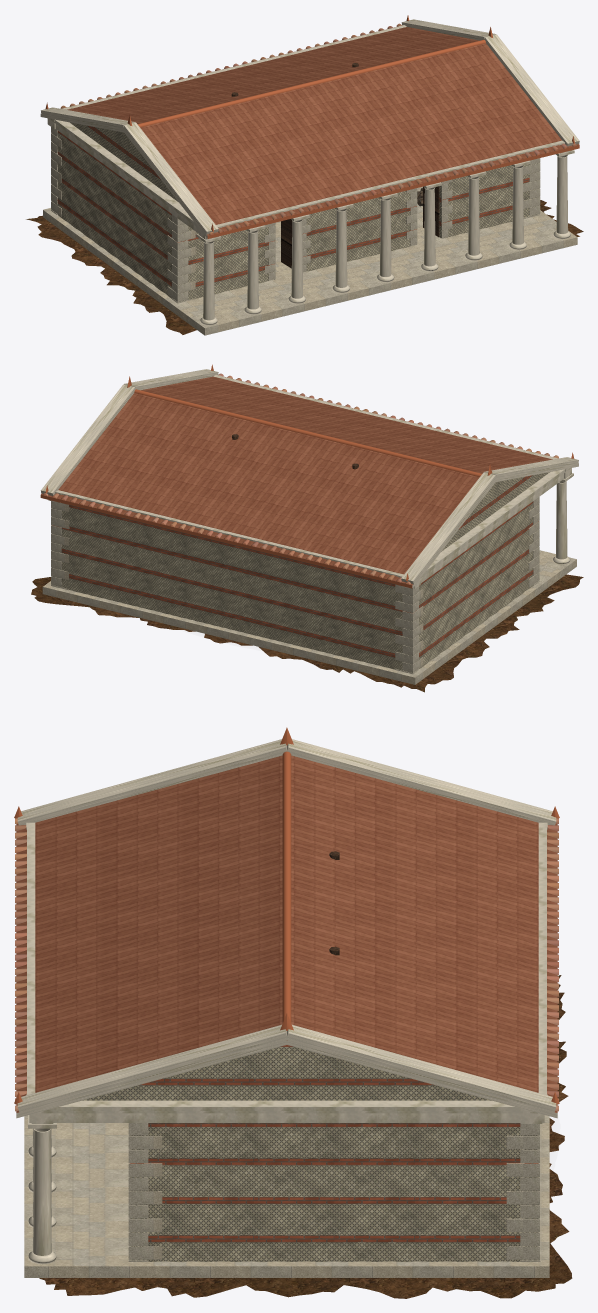
Rendered from warehouse@2.glb.
The picture shows the model from 3 angles, top to bottom: view 1: azimuth 30°, elevation 25°; view 2: azimuth 150°, elevation 25°; view 3: azimuth 270°, elevation 25°; orthographic projection. The views are drawn at different scales.
Visible parts, largest first — view 1: part_12, part_4, part_11, part_5, part_14, part_1, part_15, part_6; view 2: part_12, part_4, part_11, part_5, part_1, part_14, part_15; view 3: part_12, part_4, part_11, part_5, part_1, part_15, part_14.
Part boxes in pixels (left/top/right/bottom): part_12: left=67, top=27, right=579, bottom=235; part_4: left=52, top=122, right=539, bottom=302; part_11: left=40, top=19, right=579, bottom=325; part_5: left=43, top=127, right=577, bottom=335; part_14: left=45, top=15, right=579, bottom=238; part_1: left=26, top=200, right=583, bottom=334; part_15: left=60, top=23, right=577, bottom=235; part_6: left=231, top=63, right=439, bottom=268; part_12: left=41, top=376, right=552, bottom=585; part_4: left=51, top=472, right=549, bottom=672; part_11: left=40, top=369, right=578, bottom=589; part_5: left=42, top=497, right=576, bottom=684; part_1: left=31, top=574, right=583, bottom=692; part_14: left=40, top=364, right=574, bottom=588; part_15: left=42, top=373, right=558, bottom=584; part_12: left=16, top=755, right=557, bottom=1112; part_4: left=82, top=1045, right=539, bottom=1261; part_11: left=16, top=739, right=557, bottom=1264; part_5: left=24, top=1115, right=549, bottom=1277; part_1: left=39, top=975, right=572, bottom=1298; part_15: left=15, top=818, right=558, bottom=1111; part_14: left=14, top=727, right=559, bottom=1103.
Bounding box in the file's own units: 10.71 × 3.99 × 7.82.
16 materials, 11 textured.
